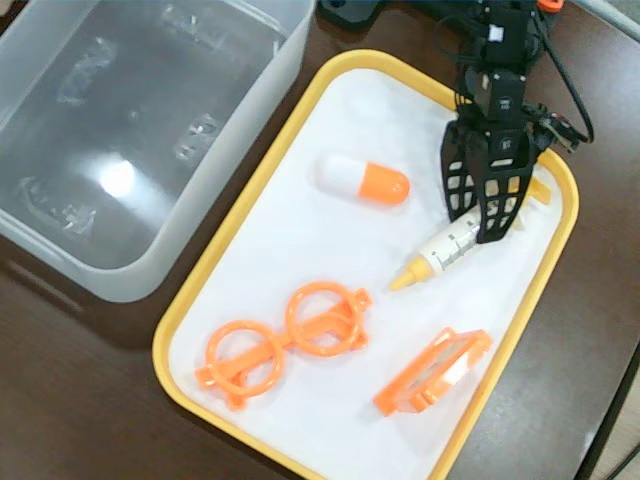pill: (316, 152, 413, 210)
syringe: (391, 169, 553, 291)
